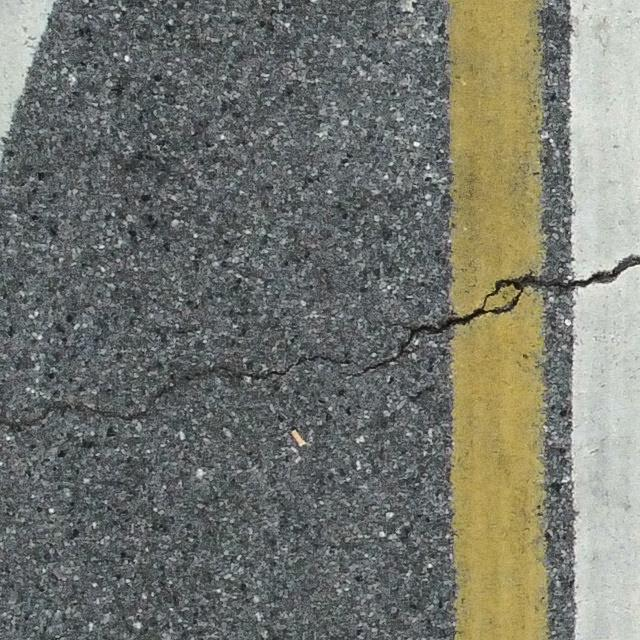TransverseCrack: (233, 251, 640, 382)
